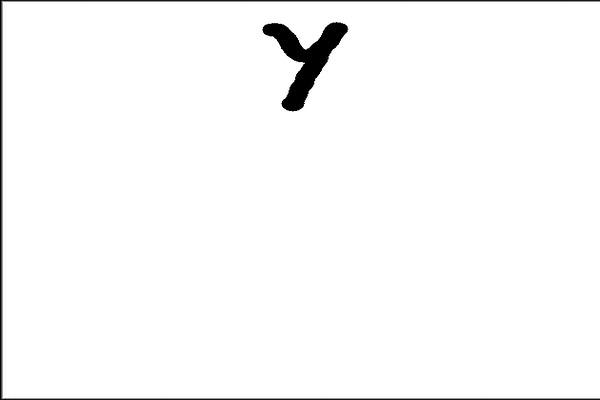Y: (255, 15, 351, 115)
